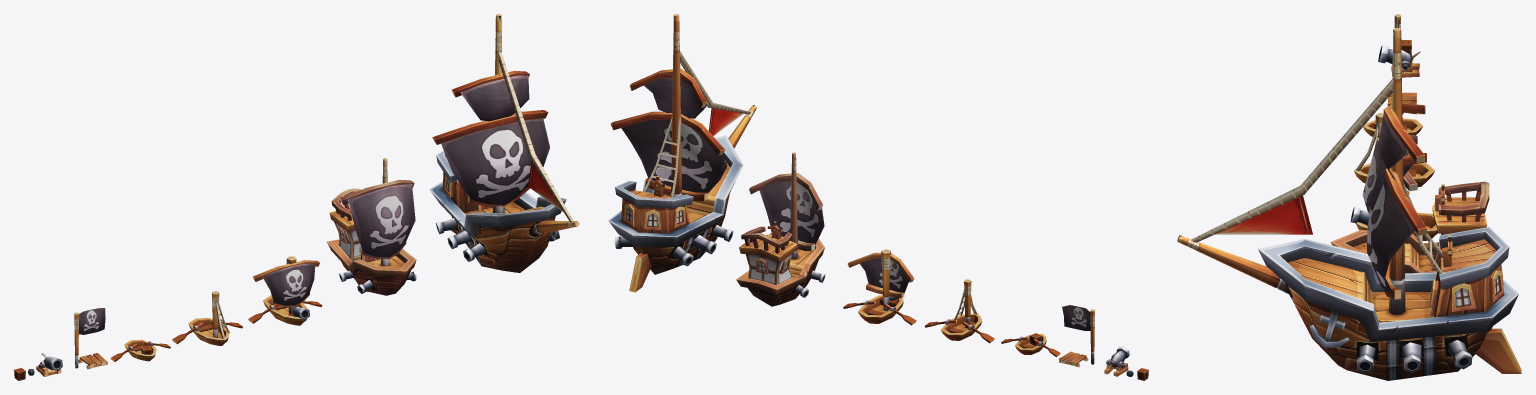
The model's file is Pirat_Boats_01.fbx.
3 renders of one model, left to right at view 1: azimuth 30°, elevation 25°; view 2: azimuth 150°, elevation 25°; view 3: azimuth 270°, elevation 25°, orthographic. The views are drawn at different scales.
Parts seen in each view (by area): view 1: pirate_boat_05_part, pirate_boat_05, pirate_boat_04_part, pirate_boat_04, pirate_boat_03_part, pirat_flag, pirate_boat_02, pirate_boat_03, pirate_boat_01; view 2: pirate_boat_05, pirate_boat_05_part, pirate_boat_04, pirate_boat_04_part, pirate_boat_03_part, pirate_boat_02, pirat_flag, pirate_boat_03, pirate_boat_01, pirat_cannon; view 3: pirate_boat_05, pirate_boat_05_part, pirate_boat_04, pirate_boat_04_part, pirate_boat_02, pirat_cannon, pirate_boat_03, pirate_boat_01.
Boxes of the visible parts, left/top/right/bottom form: pirate_boat_05_part: left=432, top=14, right=549, bottom=213; pirate_boat_05: left=429, top=51, right=579, bottom=272; pirate_boat_04_part: left=339, top=158, right=415, bottom=265; pirate_boat_04: left=327, top=188, right=416, bottom=295; pirate_boat_03_part: left=252, top=256, right=319, bottom=314; pirat_flag: left=74, top=308, right=105, bottom=368; pirate_boat_02: left=188, top=301, right=230, bottom=345; pirate_boat_03: left=263, top=295, right=309, bottom=325; pirate_boat_01: left=124, top=339, right=156, bottom=361; pirate_boat_05: left=608, top=51, right=756, bottom=292; pirate_boat_05_part: left=610, top=14, right=727, bottom=200; pirate_boat_04: left=736, top=226, right=825, bottom=306; pirate_boat_04_part: left=749, top=152, right=824, bottom=259; pirate_boat_03_part: left=847, top=249, right=914, bottom=310; pirate_boat_02: left=940, top=289, right=982, bottom=340; pirat_flag: left=1062, top=305, right=1095, bottom=364; pirate_boat_03: left=858, top=294, right=903, bottom=323; pirate_boat_01: left=1015, top=333, right=1046, bottom=355; pirat_cannon: left=1104, top=346, right=1129, bottom=376; pirate_boat_05: left=1177, top=79, right=1521, bottom=380; pirate_boat_05_part: left=1367, top=28, right=1426, bottom=314; pirate_boat_04: left=1330, top=181, right=1489, bottom=273; pirate_boat_04_part: left=1362, top=135, right=1417, bottom=217; pirate_boat_02: left=1354, top=126, right=1435, bottom=188; pirat_cannon: left=1378, top=45, right=1420, bottom=77; pirate_boat_03: left=1350, top=207, right=1438, bottom=240; pirate_boat_01: left=1363, top=118, right=1422, bottom=136.
Size of the model in its own units: 4037 by 1831 by 1619.
